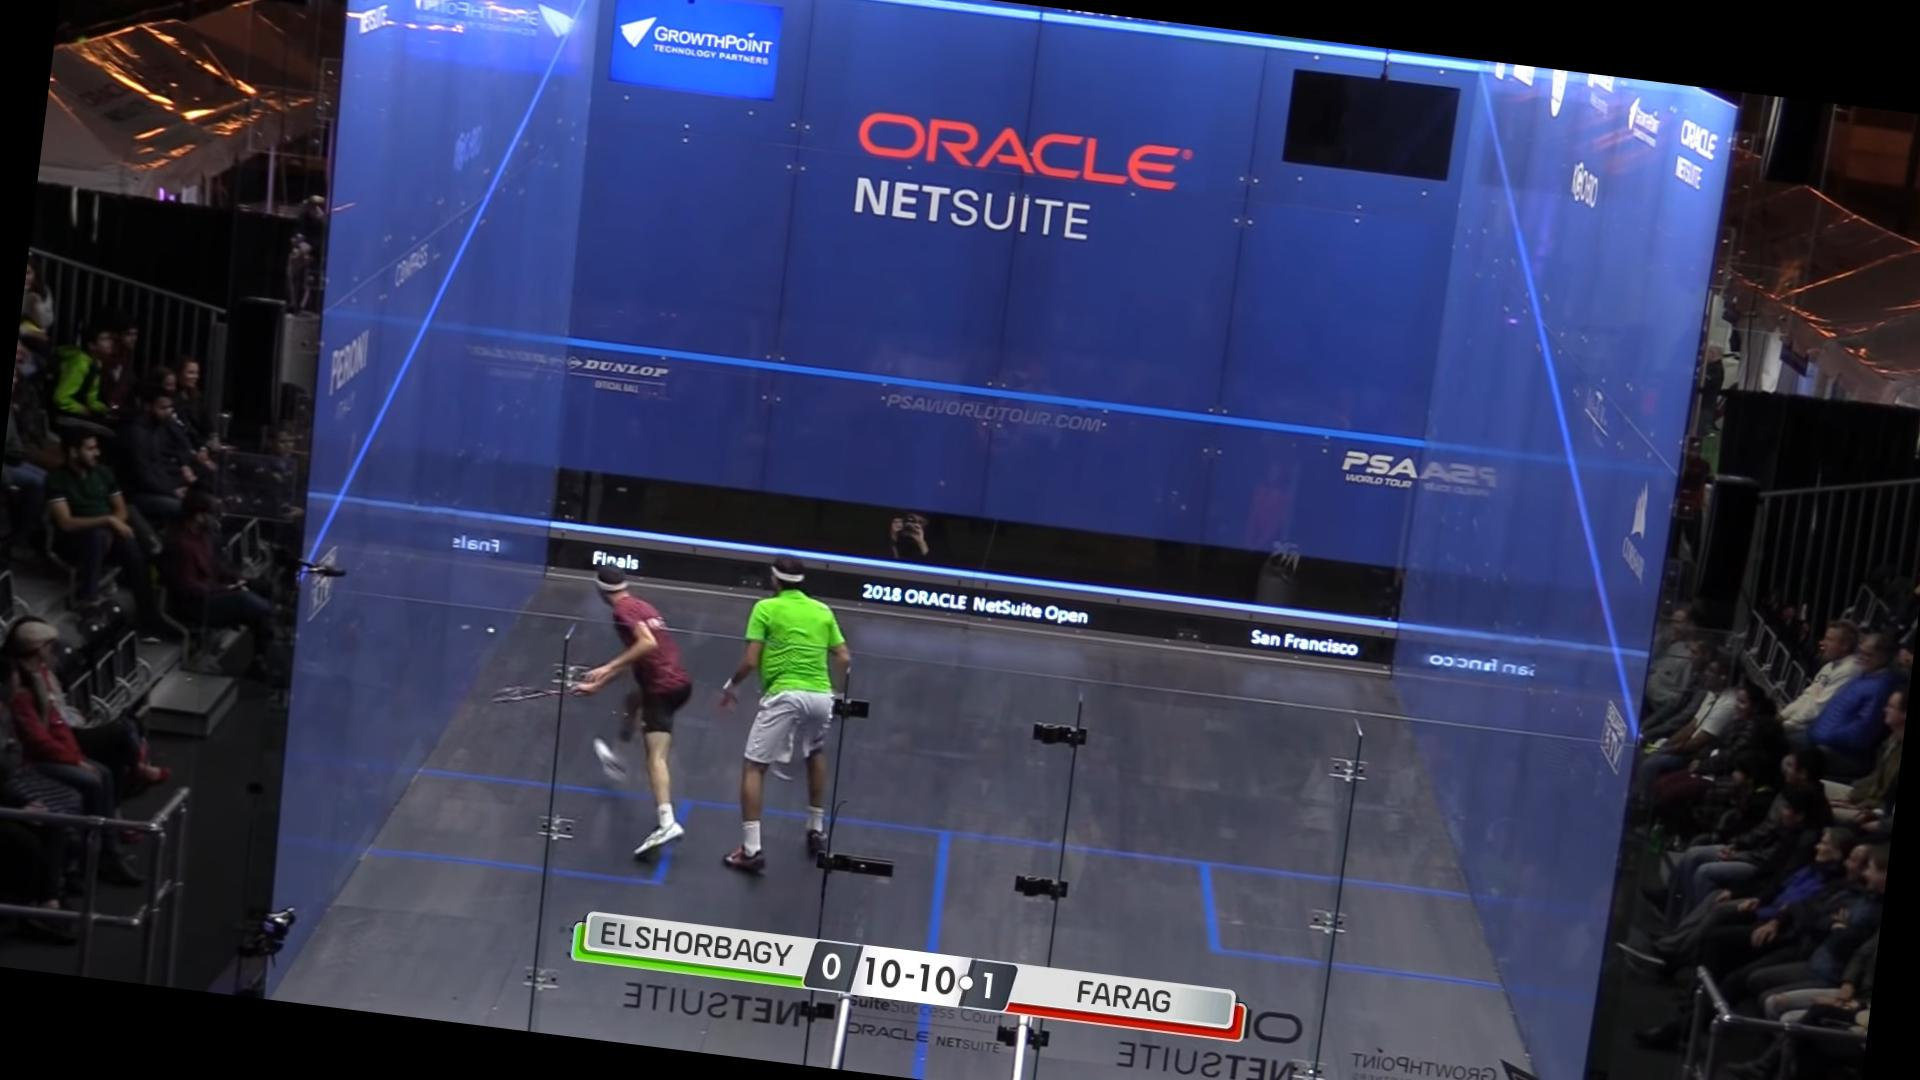Squash-Ball: (476, 618, 509, 649)
